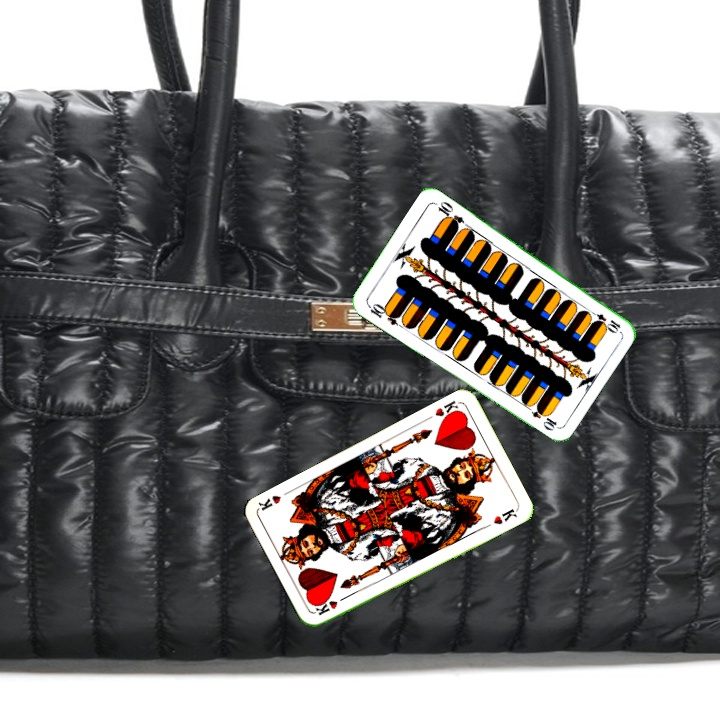E10: (363, 299, 402, 328), (585, 306, 623, 335)
HK: (311, 592, 350, 618), (431, 396, 464, 424)
